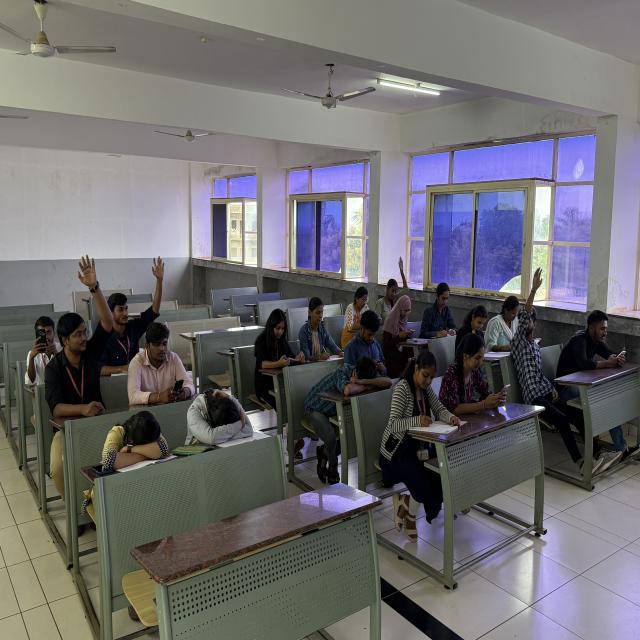Hand Rising: (44, 256, 116, 429), (103, 255, 170, 386), (507, 264, 558, 384), (378, 252, 412, 309)
Reading: (249, 305, 309, 412), (441, 329, 511, 414), (299, 294, 344, 368), (451, 303, 496, 358)
Sleeping: (298, 352, 392, 435), (185, 383, 279, 457), (90, 409, 179, 486)
Using Phone: (124, 316, 199, 410), (554, 301, 635, 385), (26, 314, 64, 403), (345, 308, 390, 379), (340, 282, 386, 334), (381, 290, 419, 346)
Writing: (374, 347, 465, 471), (419, 280, 460, 339)
